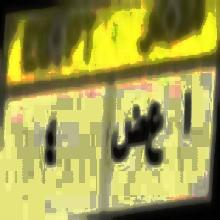4: (42, 117, 63, 171)
ain: (146, 98, 167, 164)
alif: (178, 89, 195, 140)
daad: (113, 105, 145, 167)
